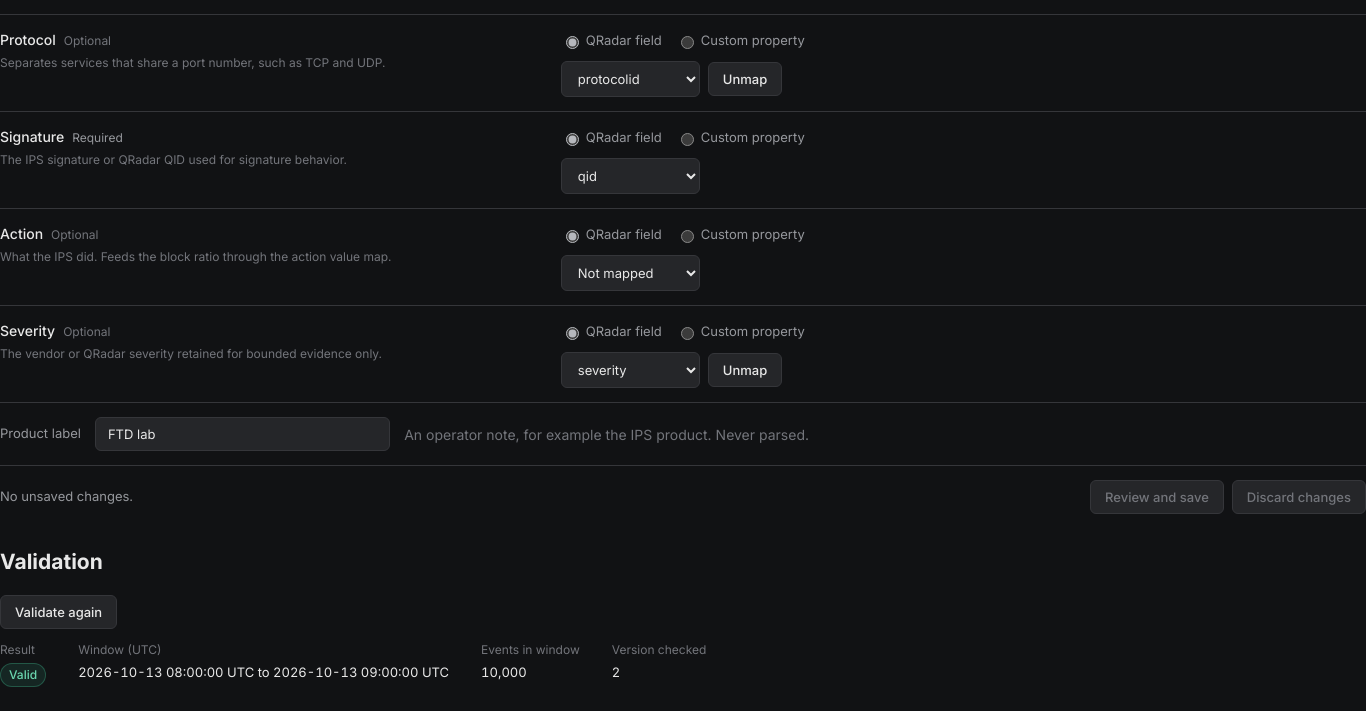
it: IpsProfileEditor: the reference kind of each field › counts a kind change of the same name as a change
(page scrolled)
Click the 5th radio button labelled "Custom property": [687, 334] box [681,327,694,340]
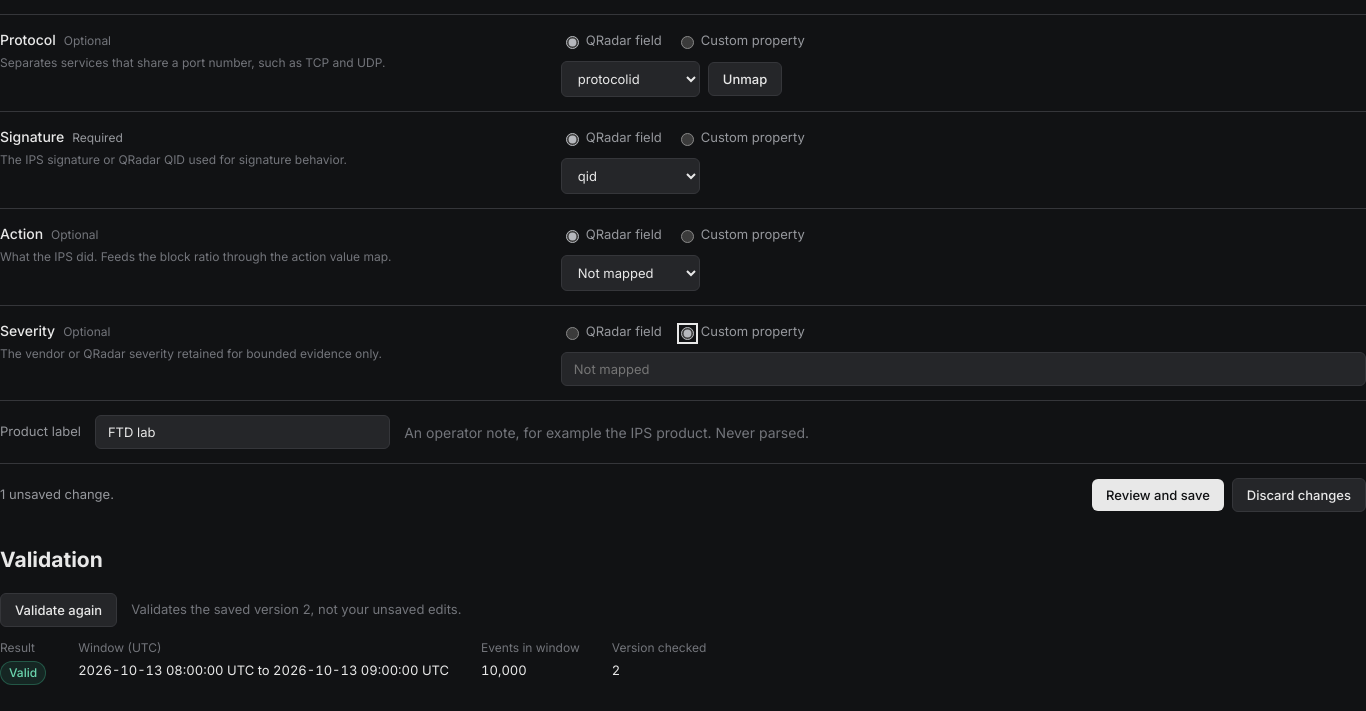
Expected: the text "1 unsaved change." is shown, [0,485,114,505]
In the dropdown named "severity property": [963, 369] box [561,352,1365,386], type "severity"
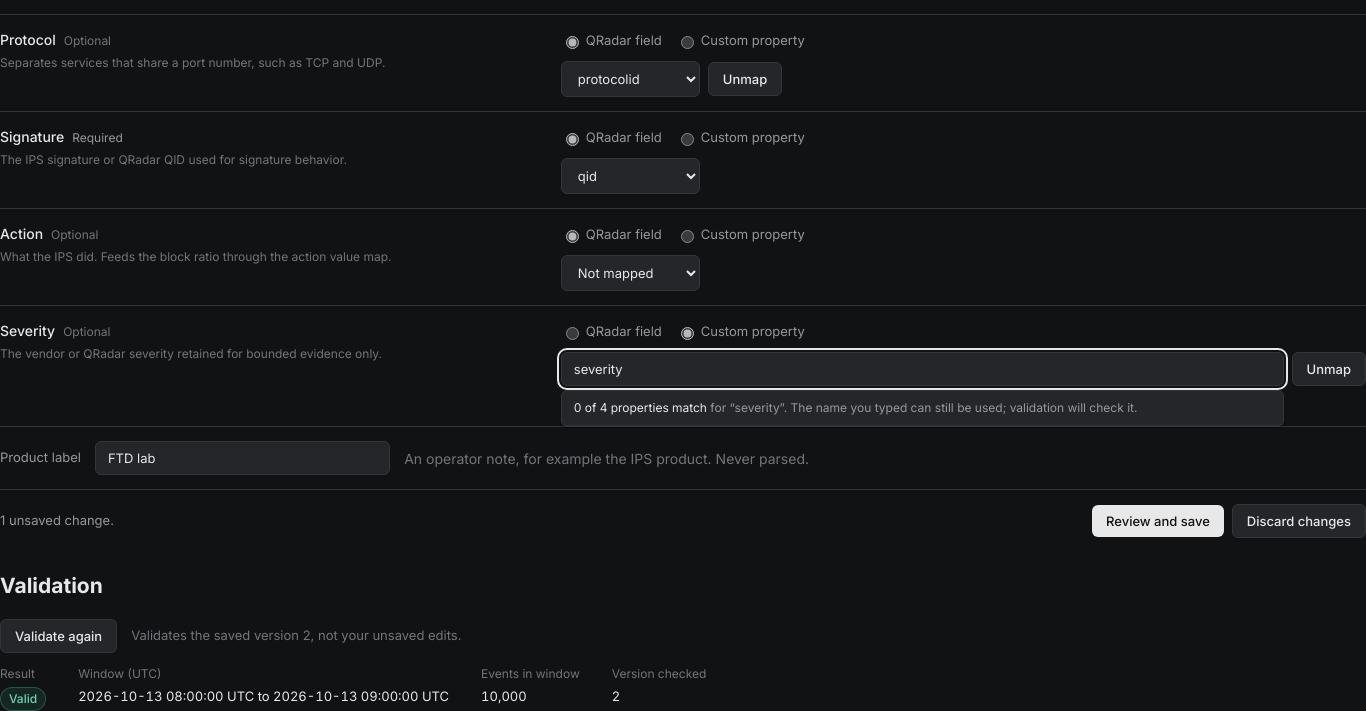
Click the button "Review and save": [1158, 521] box [1092,505,1224,537]
(page scrolled)
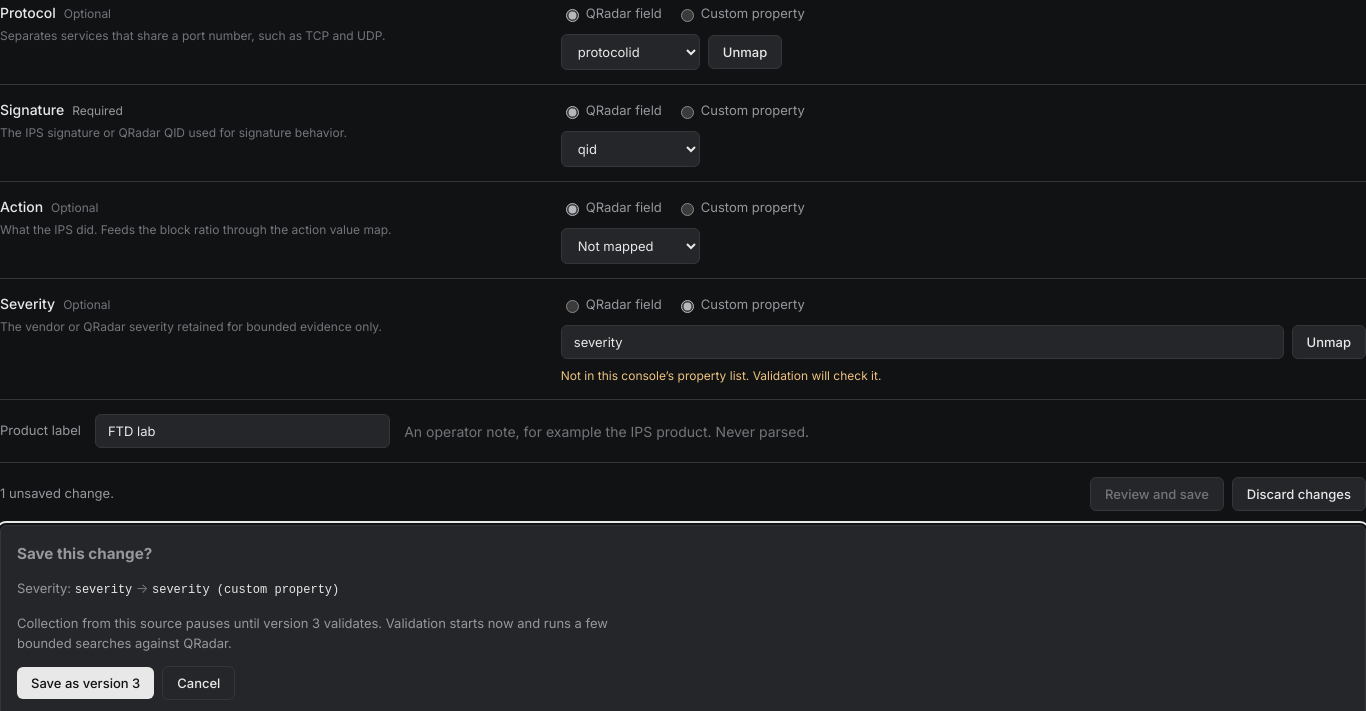
Expected: the list named "Changed fields" reads "Severity: severity → severity (custom property)", [17,580,339,597]
